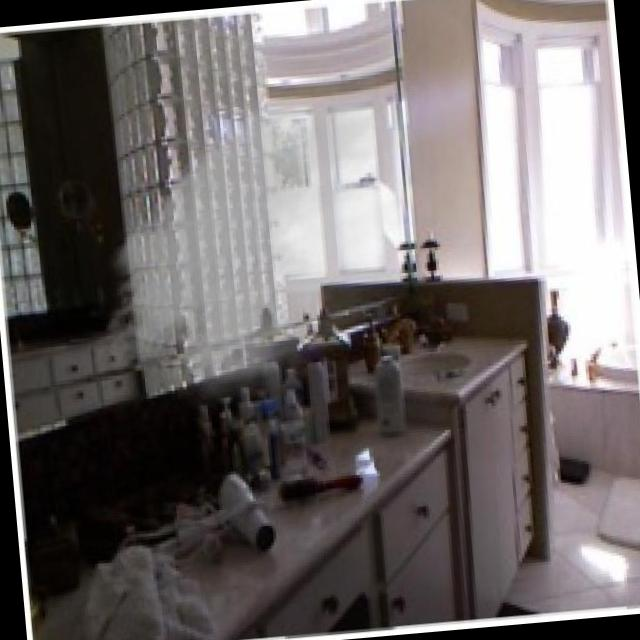Smoke: (69, 44, 493, 432)
